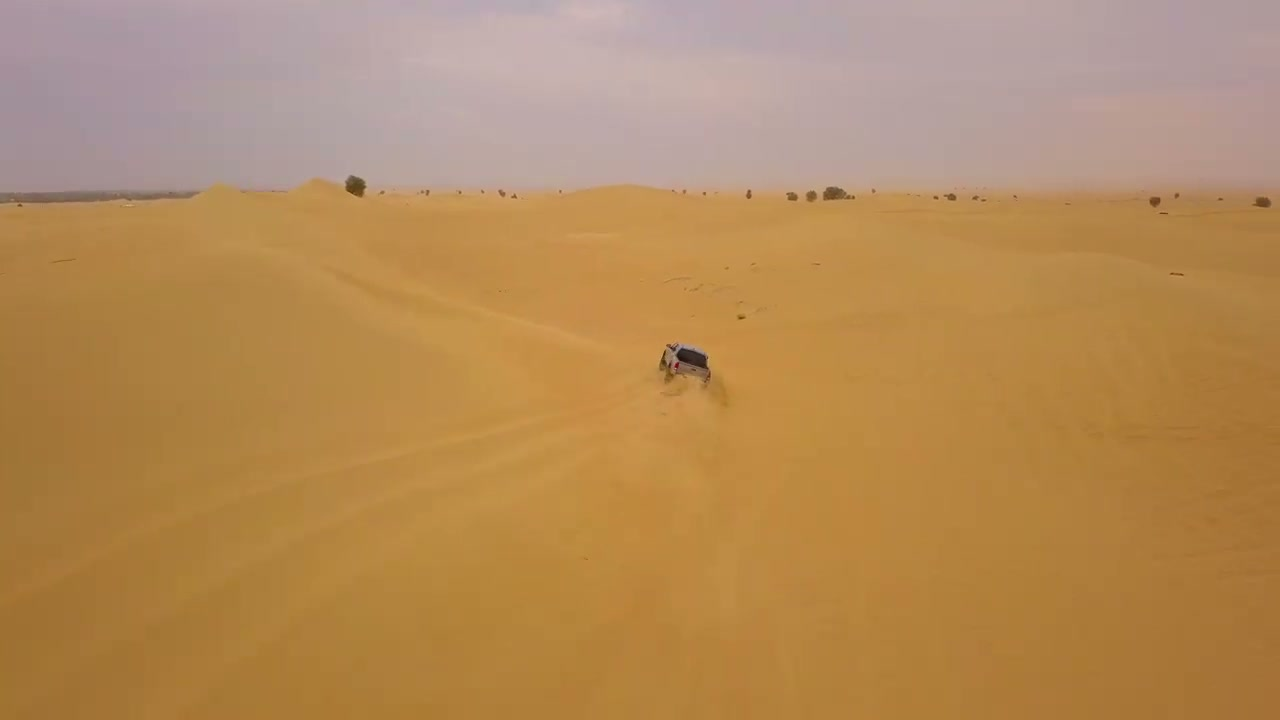vehicle_track: (4, 364, 664, 702)
